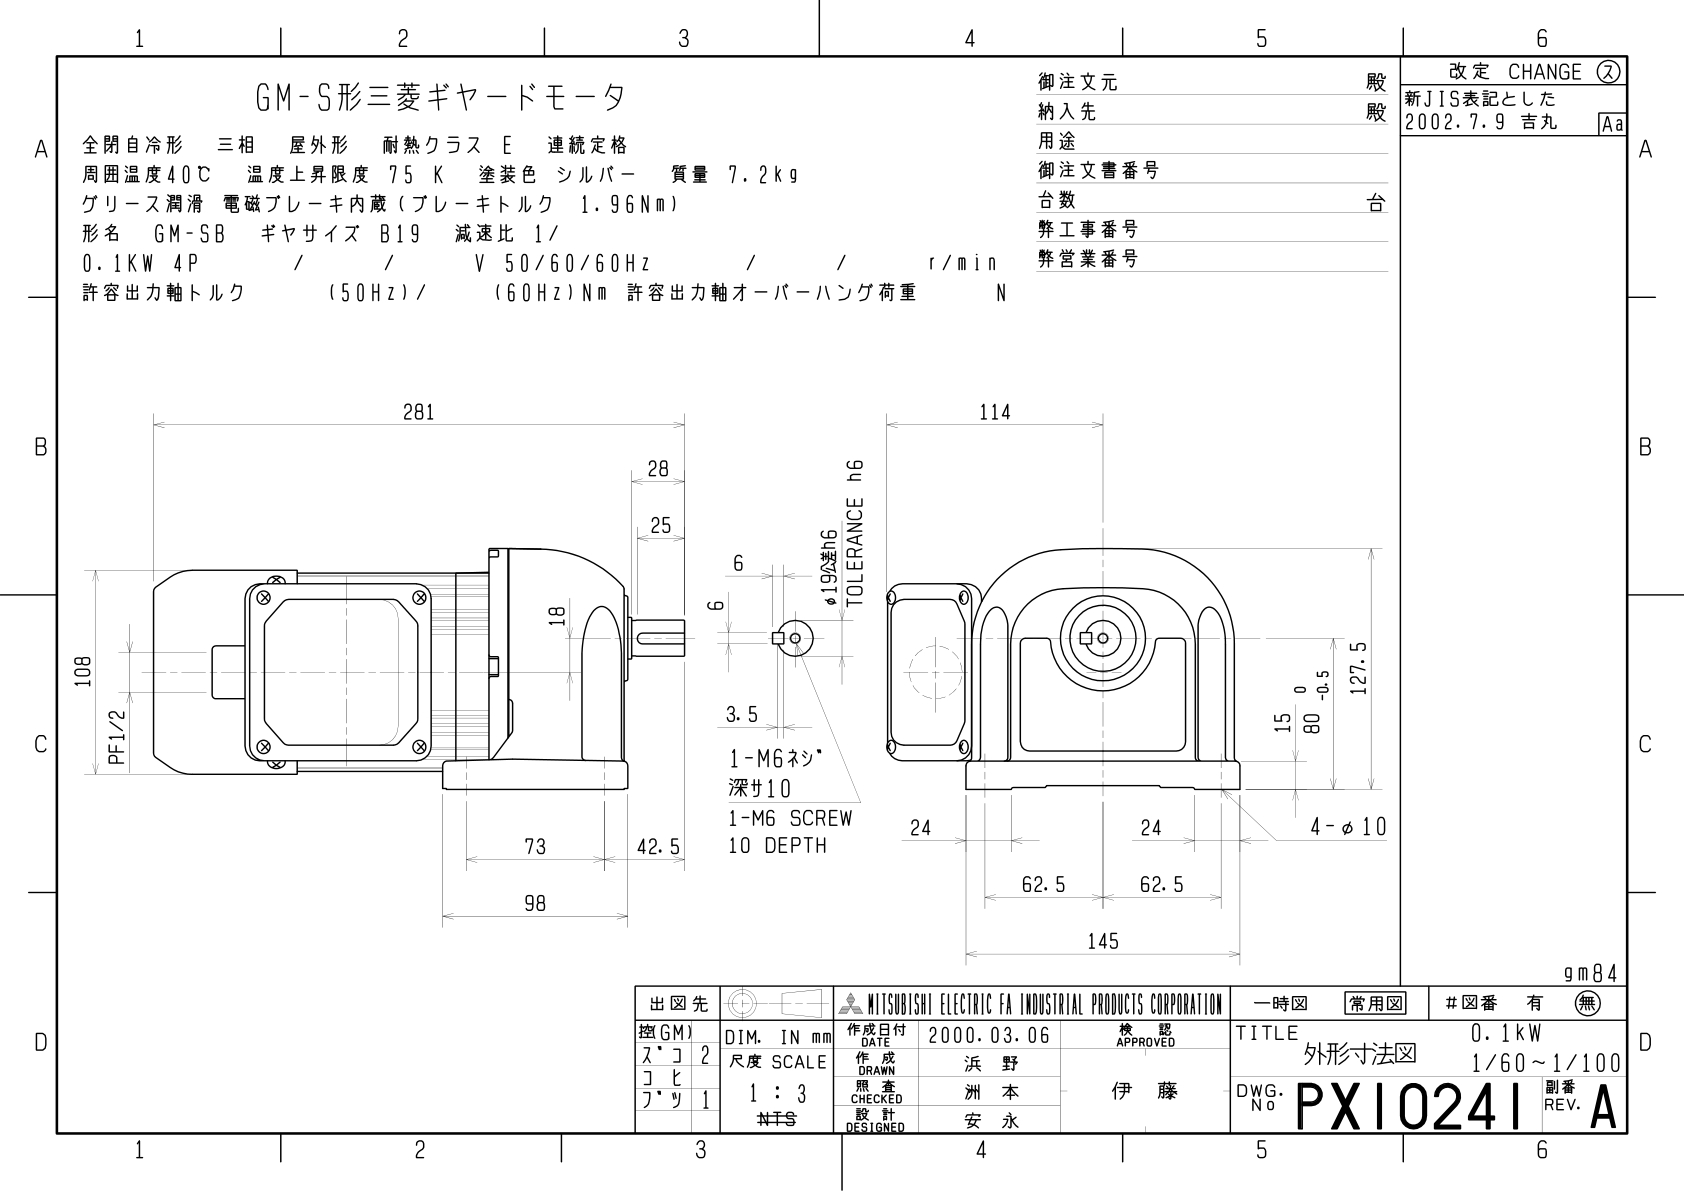GM_S_屋外＿三相_脚: (8, 1, 1684, 1191)
